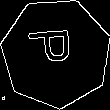P_E: (30, 33, 82, 73)
